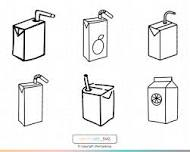Juice_Box: (78, 73, 122, 126), (16, 73, 50, 129), (13, 10, 48, 62), (145, 11, 180, 63), (145, 75, 179, 125), (79, 11, 111, 62)
